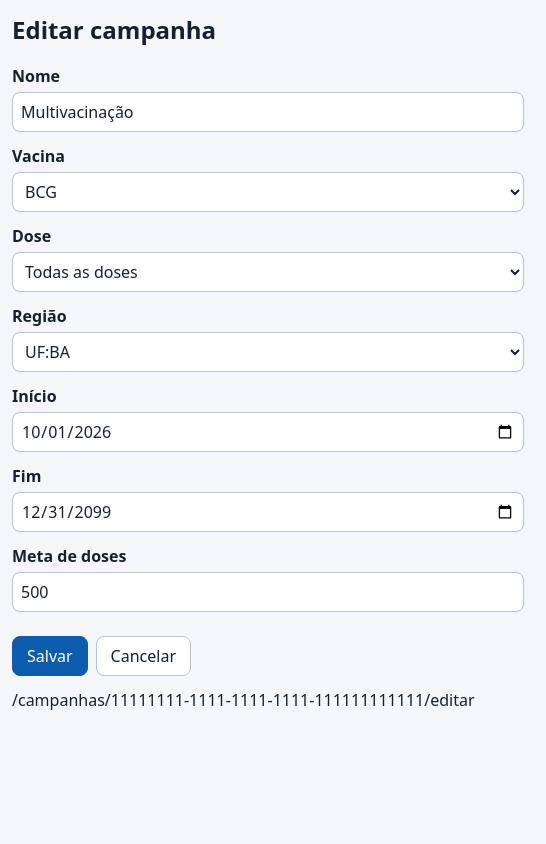
Test: campaign form › edit sends If-Match with the loaded version and shows the 412 message
Type " 2" into the field labelled "Nome". click: (268, 112)
box: [12,92,524,132]
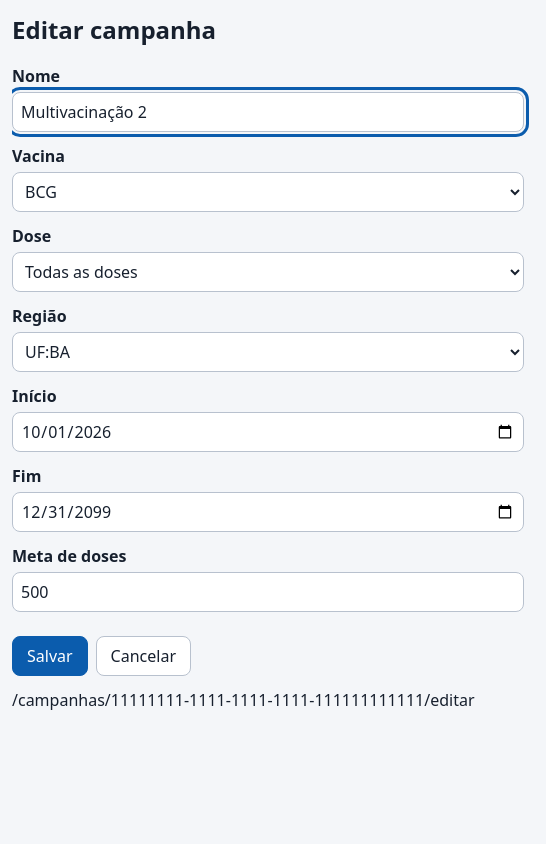
Click the button "Salvar". click: (50, 656)
box: [12,636,88,676]
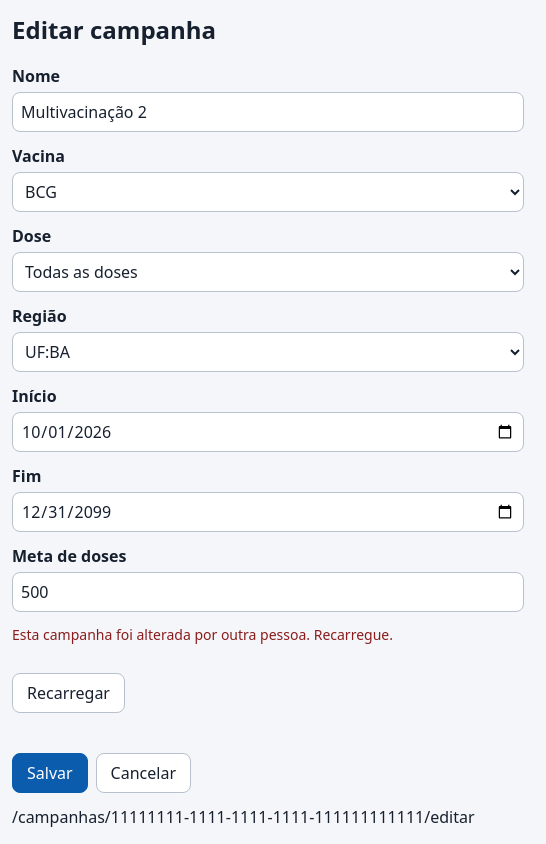
Result: the message reads "Esta campanha foi alterada por outra pessoa. Recarregue." at [12,625,393,644]
